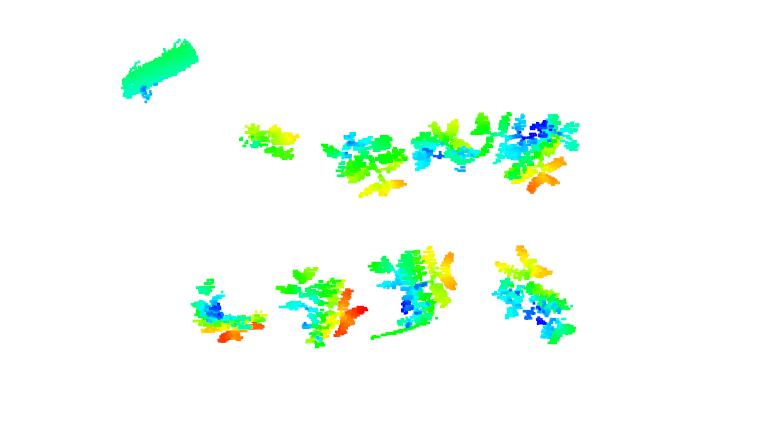chickpea: (491, 241, 579, 347), (470, 111, 582, 192), (371, 244, 464, 330), (273, 266, 368, 349), (318, 129, 411, 199), (189, 279, 269, 344), (409, 119, 480, 173), (237, 121, 302, 161)
